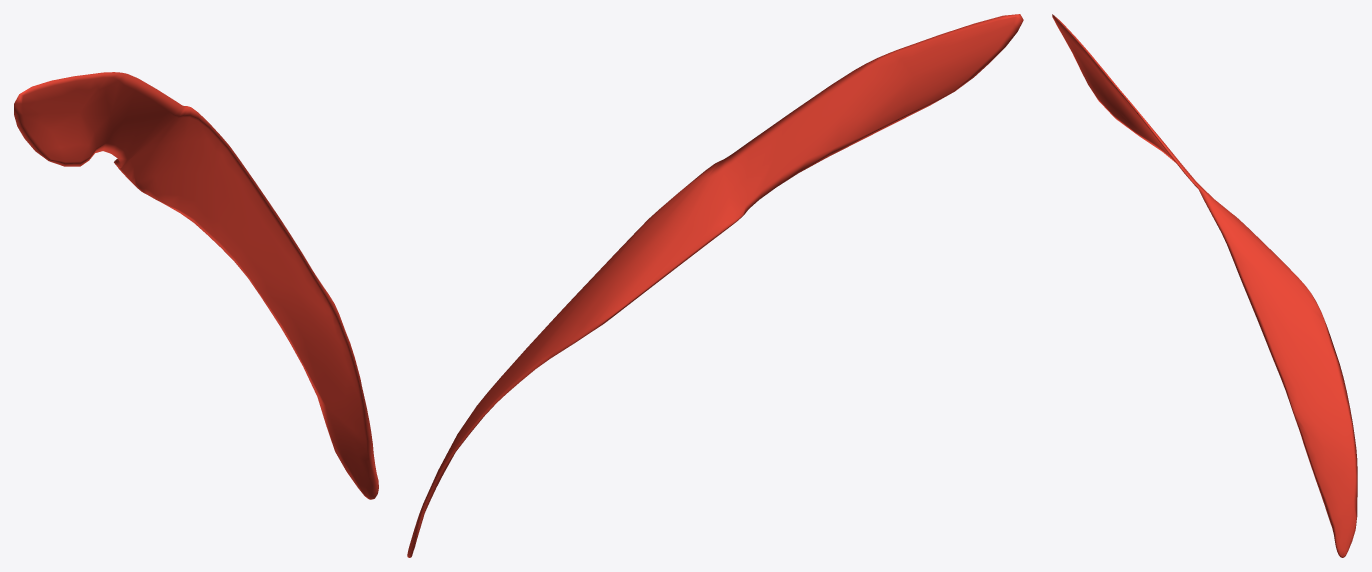
Rendered from Latissimus_dorsi-Iliac_insertion.r_Generated_Mesh_From_X3D.799.glb.
3 views of the same model, side by side, from view 1: azimuth 30°, elevation 25°; view 2: azimuth 150°, elevation 25°; view 3: azimuth 270°, elevation 25° (orthographic). The views are drawn at different scales.
Visible parts, largest first — view 1: Latissimus_dorsi-Iliac_insertion.r_Generated_Mesh_From_X3D.7; view 2: Latissimus_dorsi-Iliac_insertion.r_Generated_Mesh_From_X3D.7; view 3: Latissimus_dorsi-Iliac_insertion.r_Generated_Mesh_From_X3D.7.
Boxes of the visible parts, left/top/right/bottom form: Latissimus_dorsi-Iliac_insertion.r_Generated_Mesh_From_X3D.7: left=14, top=72, right=378, bottom=499; Latissimus_dorsi-Iliac_insertion.r_Generated_Mesh_From_X3D.7: left=407, top=14, right=1023, bottom=557; Latissimus_dorsi-Iliac_insertion.r_Generated_Mesh_From_X3D.7: left=1052, top=14, right=1357, bottom=557.
Size of the model in its own units: 0.0483 by 0.0549 by 0.0393.
